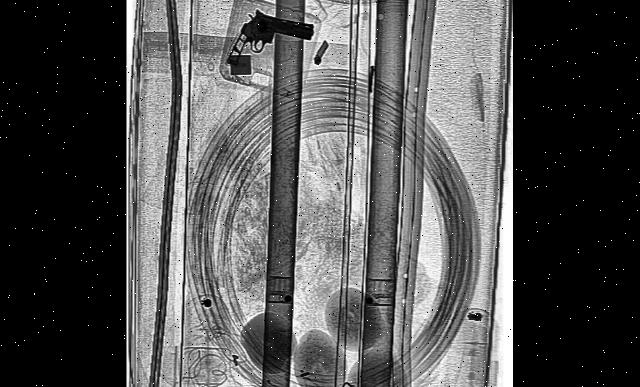Gun: (225, 0, 316, 67)
